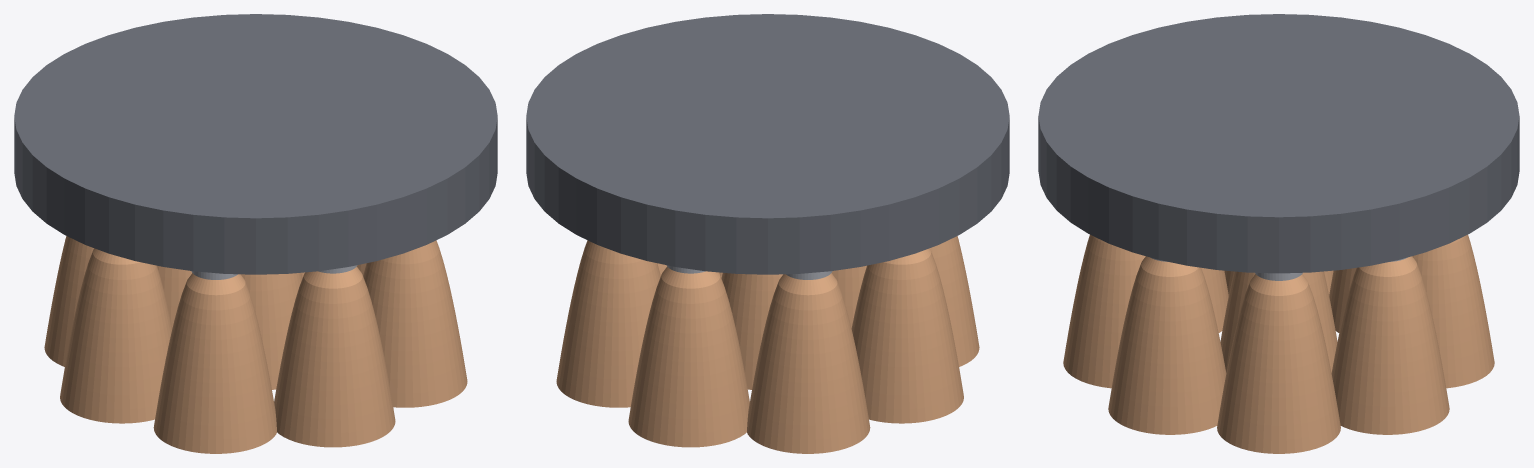
File: engine_cluster9.glb
The picture shows the model from 3 angles, left to right: view 1: azimuth 30°, elevation 25°; view 2: azimuth 150°, elevation 25°; view 3: azimuth 270°, elevation 25°; orthographic projection.
Visible parts, largest first — view 1: engine_cluster9_0, engine_cluster9_10, engine_cluster9_8, engine_cluster9_12, engine_cluster9_6, engine_cluster9_2, engine_cluster9_14, engine_cluster9_16; view 2: engine_cluster9_0, engine_cluster9_14, engine_cluster9_16, engine_cluster9_12, engine_cluster9_18, engine_cluster9_2, engine_cluster9_10, engine_cluster9_8; view 3: engine_cluster9_0, engine_cluster9_4, engine_cluster9_6, engine_cluster9_18, engine_cluster9_8, engine_cluster9_16, engine_cluster9_2, engine_cluster9_10, engine_cluster9_14.
Part boxes in pixels (<box>): engine_cluster9_0: <box>14,14,497,274</box>; engine_cluster9_10: <box>153,273,276,453</box>; engine_cluster9_8: <box>274,266,395,447</box>; engine_cluster9_12: <box>60,248,172,423</box>; engine_cluster9_6: <box>363,240,467,407</box>; engine_cluster9_2: <box>241,273,302,389</box>; engine_cluster9_14: <box>44,236,93,366</box>; engine_cluster9_16: <box>157,265,191,327</box>; engine_cluster9_0: <box>526,14,1009,274</box>; engine_cluster9_14: <box>747,273,870,453</box>; engine_cluster9_16: <box>628,266,749,447</box>; engine_cluster9_12: <box>851,248,963,423</box>; engine_cluster9_18: <box>556,240,660,407</box>; engine_cluster9_2: <box>721,273,782,389</box>; engine_cluster9_10: <box>930,236,979,366</box>; engine_cluster9_8: <box>832,265,866,327</box>; engine_cluster9_0: <box>1038,14,1519,273</box>; engine_cluster9_4: <box>1217,274,1340,453</box>; engine_cluster9_6: <box>1108,256,1226,434</box>; engine_cluster9_18: <box>1331,256,1449,434</box>; engine_cluster9_8: <box>1063,234,1145,388</box>; engine_cluster9_16: <box>1412,234,1494,388</box>; engine_cluster9_2: <box>1220,271,1337,372</box>; engine_cluster9_10: <box>1201,268,1228,332</box>; engine_cluster9_14: <box>1329,268,1356,332</box>.
Bounding box in the file's own units: 1.94 × 1.1 × 1.94.
